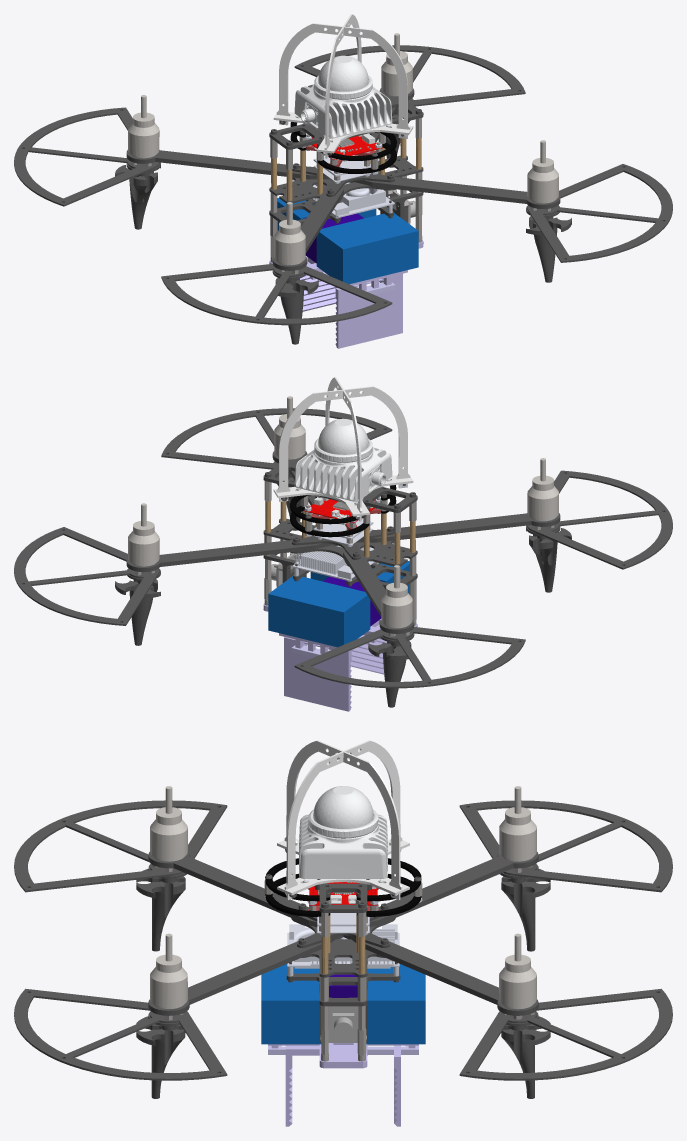
Rendered from drone_gripper_battery_LiDAR_1300.dae.
3 renders of one model, top to bottom at view 1: azimuth 30°, elevation 25°; view 2: azimuth 150°, elevation 25°; view 3: azimuth 270°, elevation 25°, orthographic. The views are drawn at different scales.
Parts seen in each view (by area): view 1: Shape_IndexedFaceSet; view 2: Shape_IndexedFaceSet; view 3: Shape_IndexedFaceSet.
Part boxes in pixels (x1=…): Shape_IndexedFaceSet: x1=14, y1=14, x2=672, y2=348; Shape_IndexedFaceSet: x1=14, y1=377, x2=672, y2=711; Shape_IndexedFaceSet: x1=14, y1=740, x2=672, y2=1126.
Bounding box in the file's own units: 0.4806 × 0.4806 × 0.2853.
